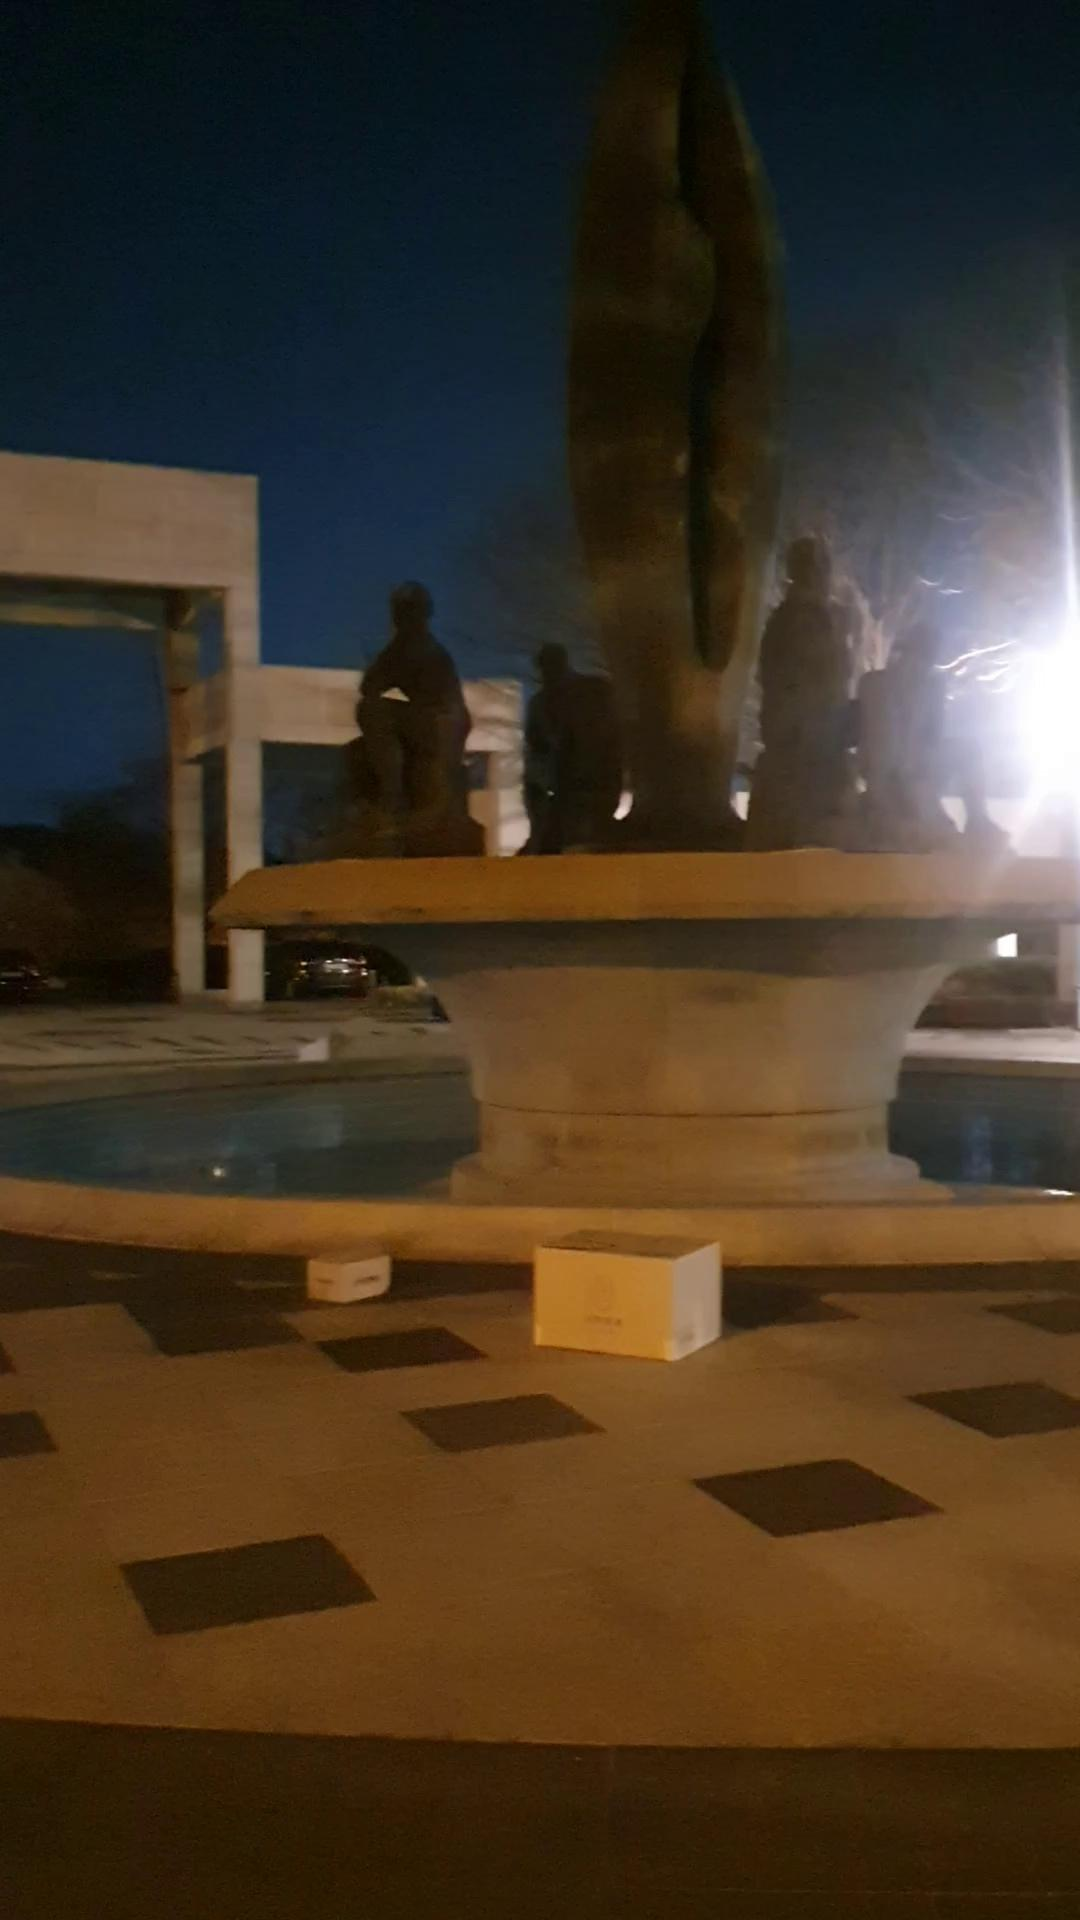Box: (506, 1215, 732, 1371), (298, 1240, 397, 1307)
